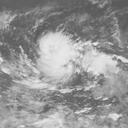cyclone: (9, 8, 123, 99)
